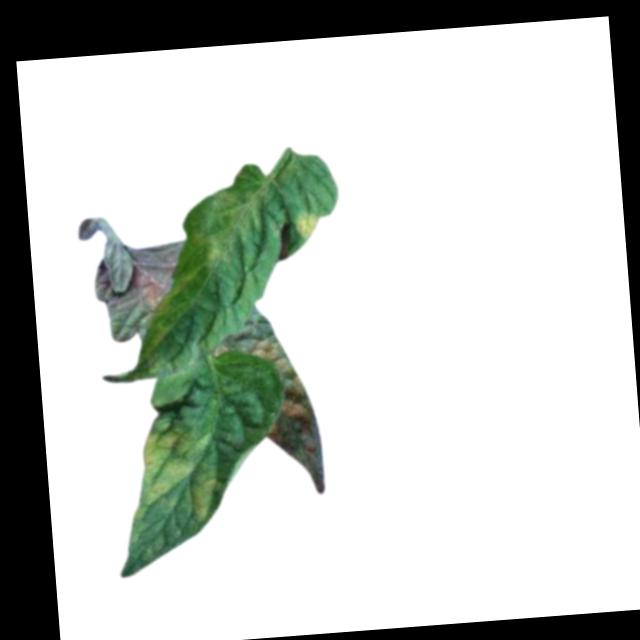Leaf_Mold: (124, 417, 223, 535), (92, 239, 192, 341), (262, 359, 325, 495), (211, 303, 295, 365), (294, 209, 320, 243)
